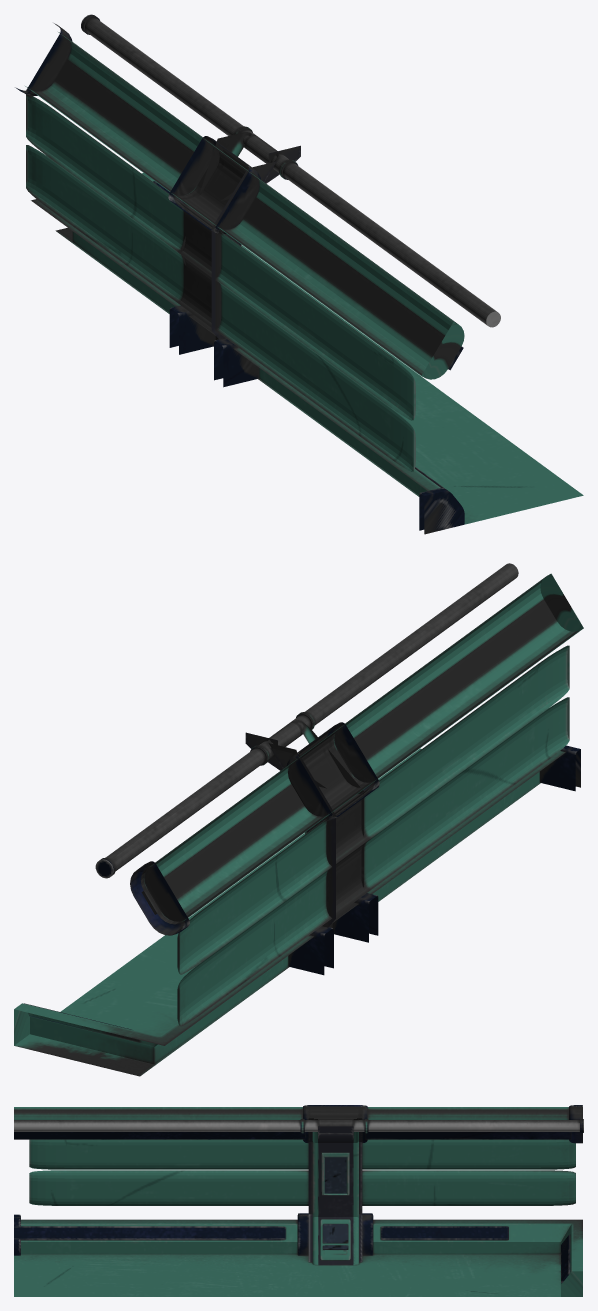
File: 1 yuka2.fbx
3 renders of one model, top to bottom at view 1: azimuth 30°, elevation 25°; view 2: azimuth 150°, elevation 25°; view 3: azimuth 270°, elevation 25°, orthographic. The views are drawn at different scales.
Visible parts, largest first — view 1: polySurface355, polySurface359, polySurface361, polySurface303; view 2: polySurface355, polySurface359, polySurface361, polySurface303; view 3: polySurface355, polySurface359, polySurface361, polySurface303, polySurface311.
Boxes of the visible parts, x1,y1,x2,y2 form: polySurface355: [25, 32, 583, 524]; polySurface359: [15, 14, 464, 534]; polySurface361: [85, 18, 500, 327]; polySurface303: [211, 145, 300, 339]; polySurface355: [14, 573, 583, 1076]; polySurface359: [24, 712, 580, 1042]; polySurface361: [106, 563, 518, 870]; polySurface303: [245, 732, 335, 927]; polySurface355: [14, 1107, 582, 1296]; polySurface359: [14, 1105, 583, 1282]; polySurface361: [14, 1120, 579, 1131]; polySurface303: [308, 1118, 362, 1265]; polySurface311: [323, 1157, 348, 1249].
Size of the model in its own units: 14.62 by 17.62 by 61.47.
1 material, 1 textured.
